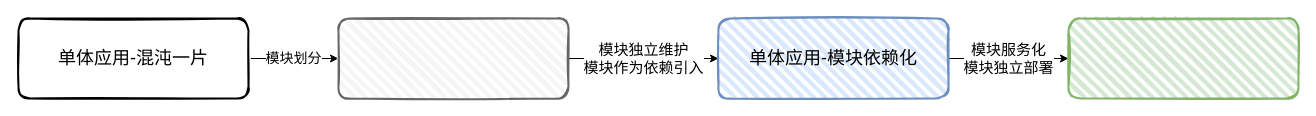
Image size: 1316x116. Some labels were removed from this diagram. The shapes that lost their labels are listed below. From the top down, each one's centre as x and y in pixels, then its label:
[453,58]: 单体应用-模块化
[1183,58]: 微服务化
